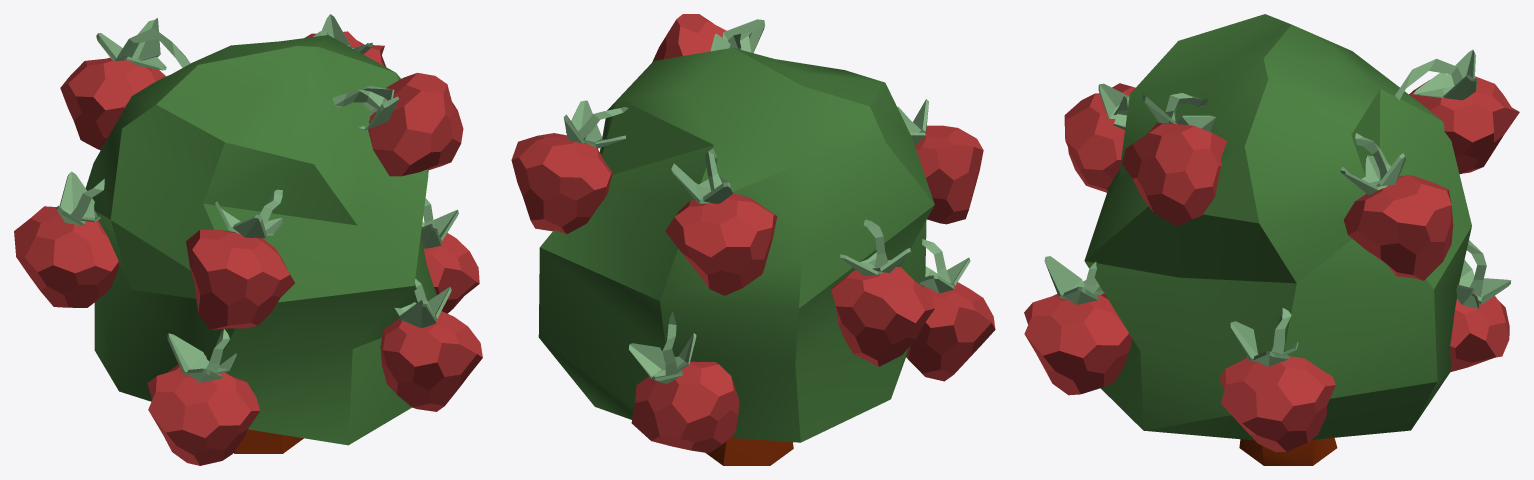
Rendered from octo1.fbx.
The picture shows the model from 3 angles, left to right: view 1: azimuth 30°, elevation 25°; view 2: azimuth 150°, elevation 25°; view 3: azimuth 270°, elevation 25°; orthographic projection. The views are drawn at different scales.
Parts seen in each view (by area): view 1: Leaves, Fruit, Trunk; view 2: Leaves, Fruit, Trunk; view 3: Leaves, Fruit, Trunk.
Part boxes in pixels (x1,y1,x2,y2): Leaves: [85, 35, 436, 445]; Fruit: [14, 14, 482, 465]; Trunk: [233, 429, 303, 453]; Leaves: [538, 47, 934, 442]; Fruit: [511, 14, 995, 453]; Trunk: [705, 438, 793, 465]; Leaves: [1084, 14, 1471, 440]; Fruit: [1024, 49, 1519, 452]; Trunk: [1239, 437, 1337, 465].
Size of the model in its own units: 0.5798 by 0.5213 by 0.5819.
